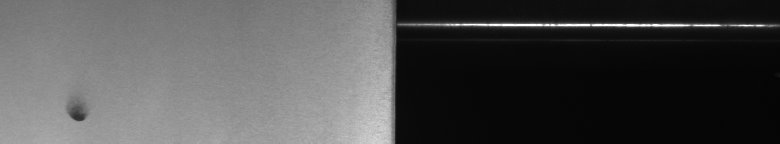fi: (60, 100, 92, 128)
